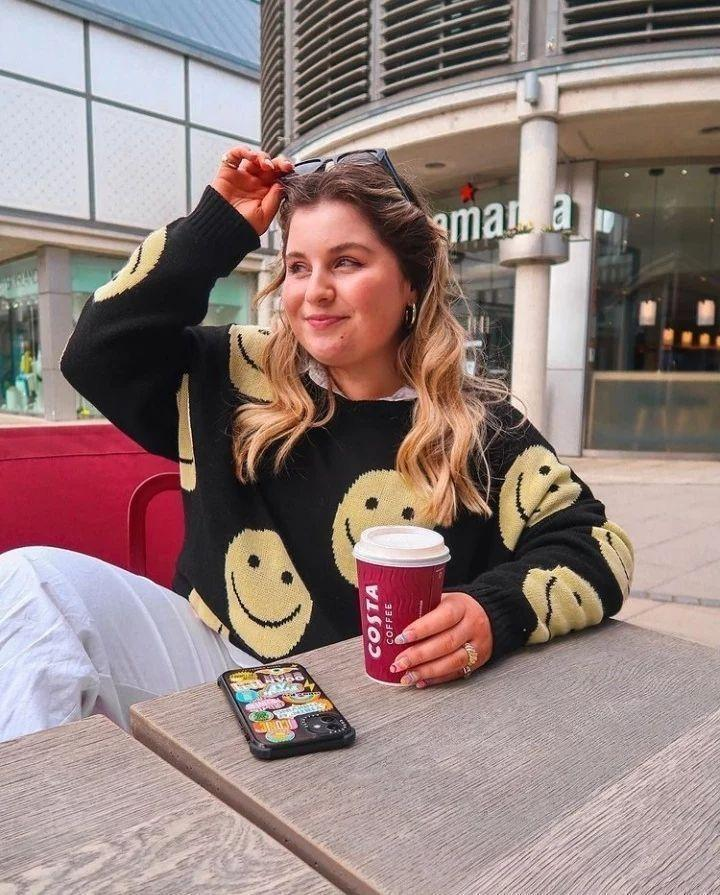cup-disposable: (348, 521, 455, 688)
